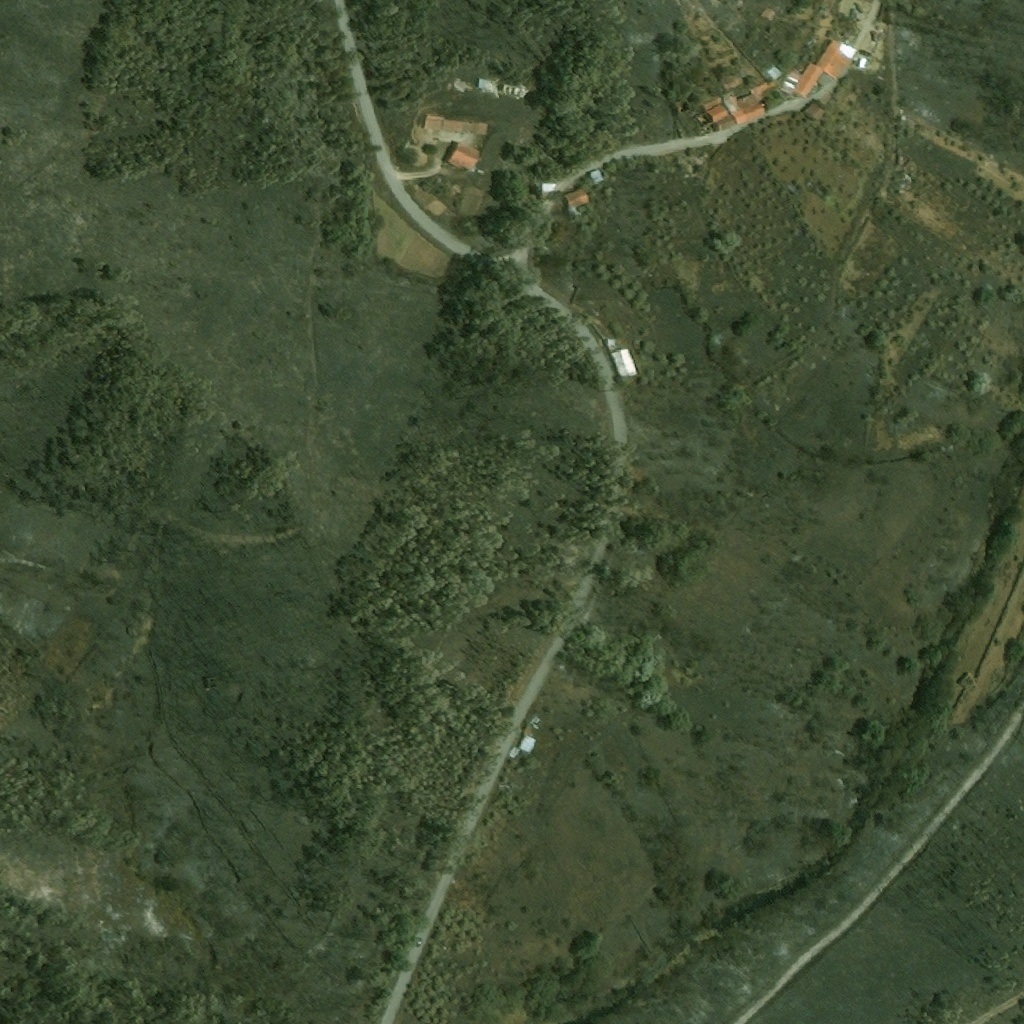0 no-damage: (723, 79, 776, 124), (817, 37, 857, 78), (605, 337, 637, 379), (519, 712, 548, 753), (794, 62, 823, 97), (448, 142, 479, 170), (694, 111, 723, 135), (442, 120, 488, 135), (564, 188, 587, 217), (494, 81, 528, 97), (803, 100, 827, 120), (709, 104, 729, 122), (722, 73, 743, 90), (716, 114, 736, 131), (702, 95, 722, 111), (423, 115, 444, 130), (768, 64, 785, 80), (677, 98, 694, 114), (762, 3, 777, 19), (590, 170, 605, 183), (478, 78, 493, 90), (872, 22, 884, 35), (541, 183, 556, 193), (858, 46, 867, 57)
4 un-classified: (897, 153, 911, 166), (901, 112, 907, 121)
